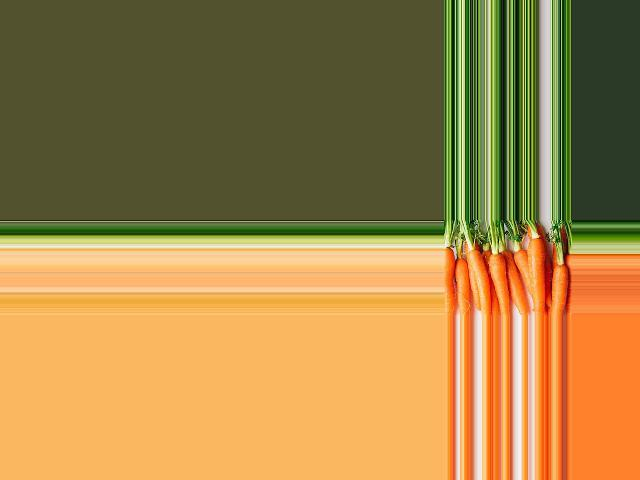carrot: (551, 255, 570, 317)
